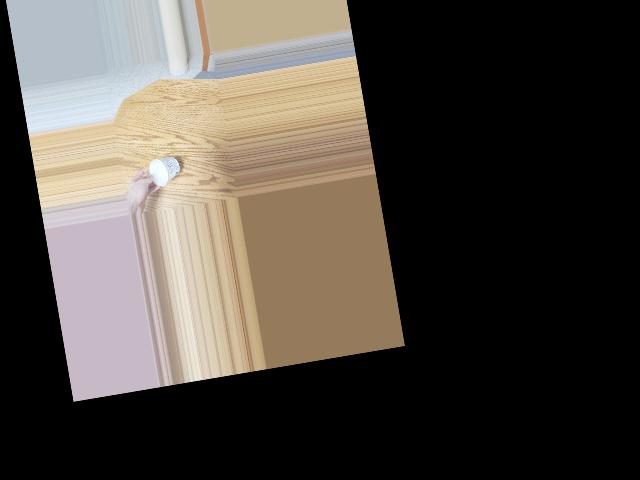cotage: (145, 155, 184, 193)
